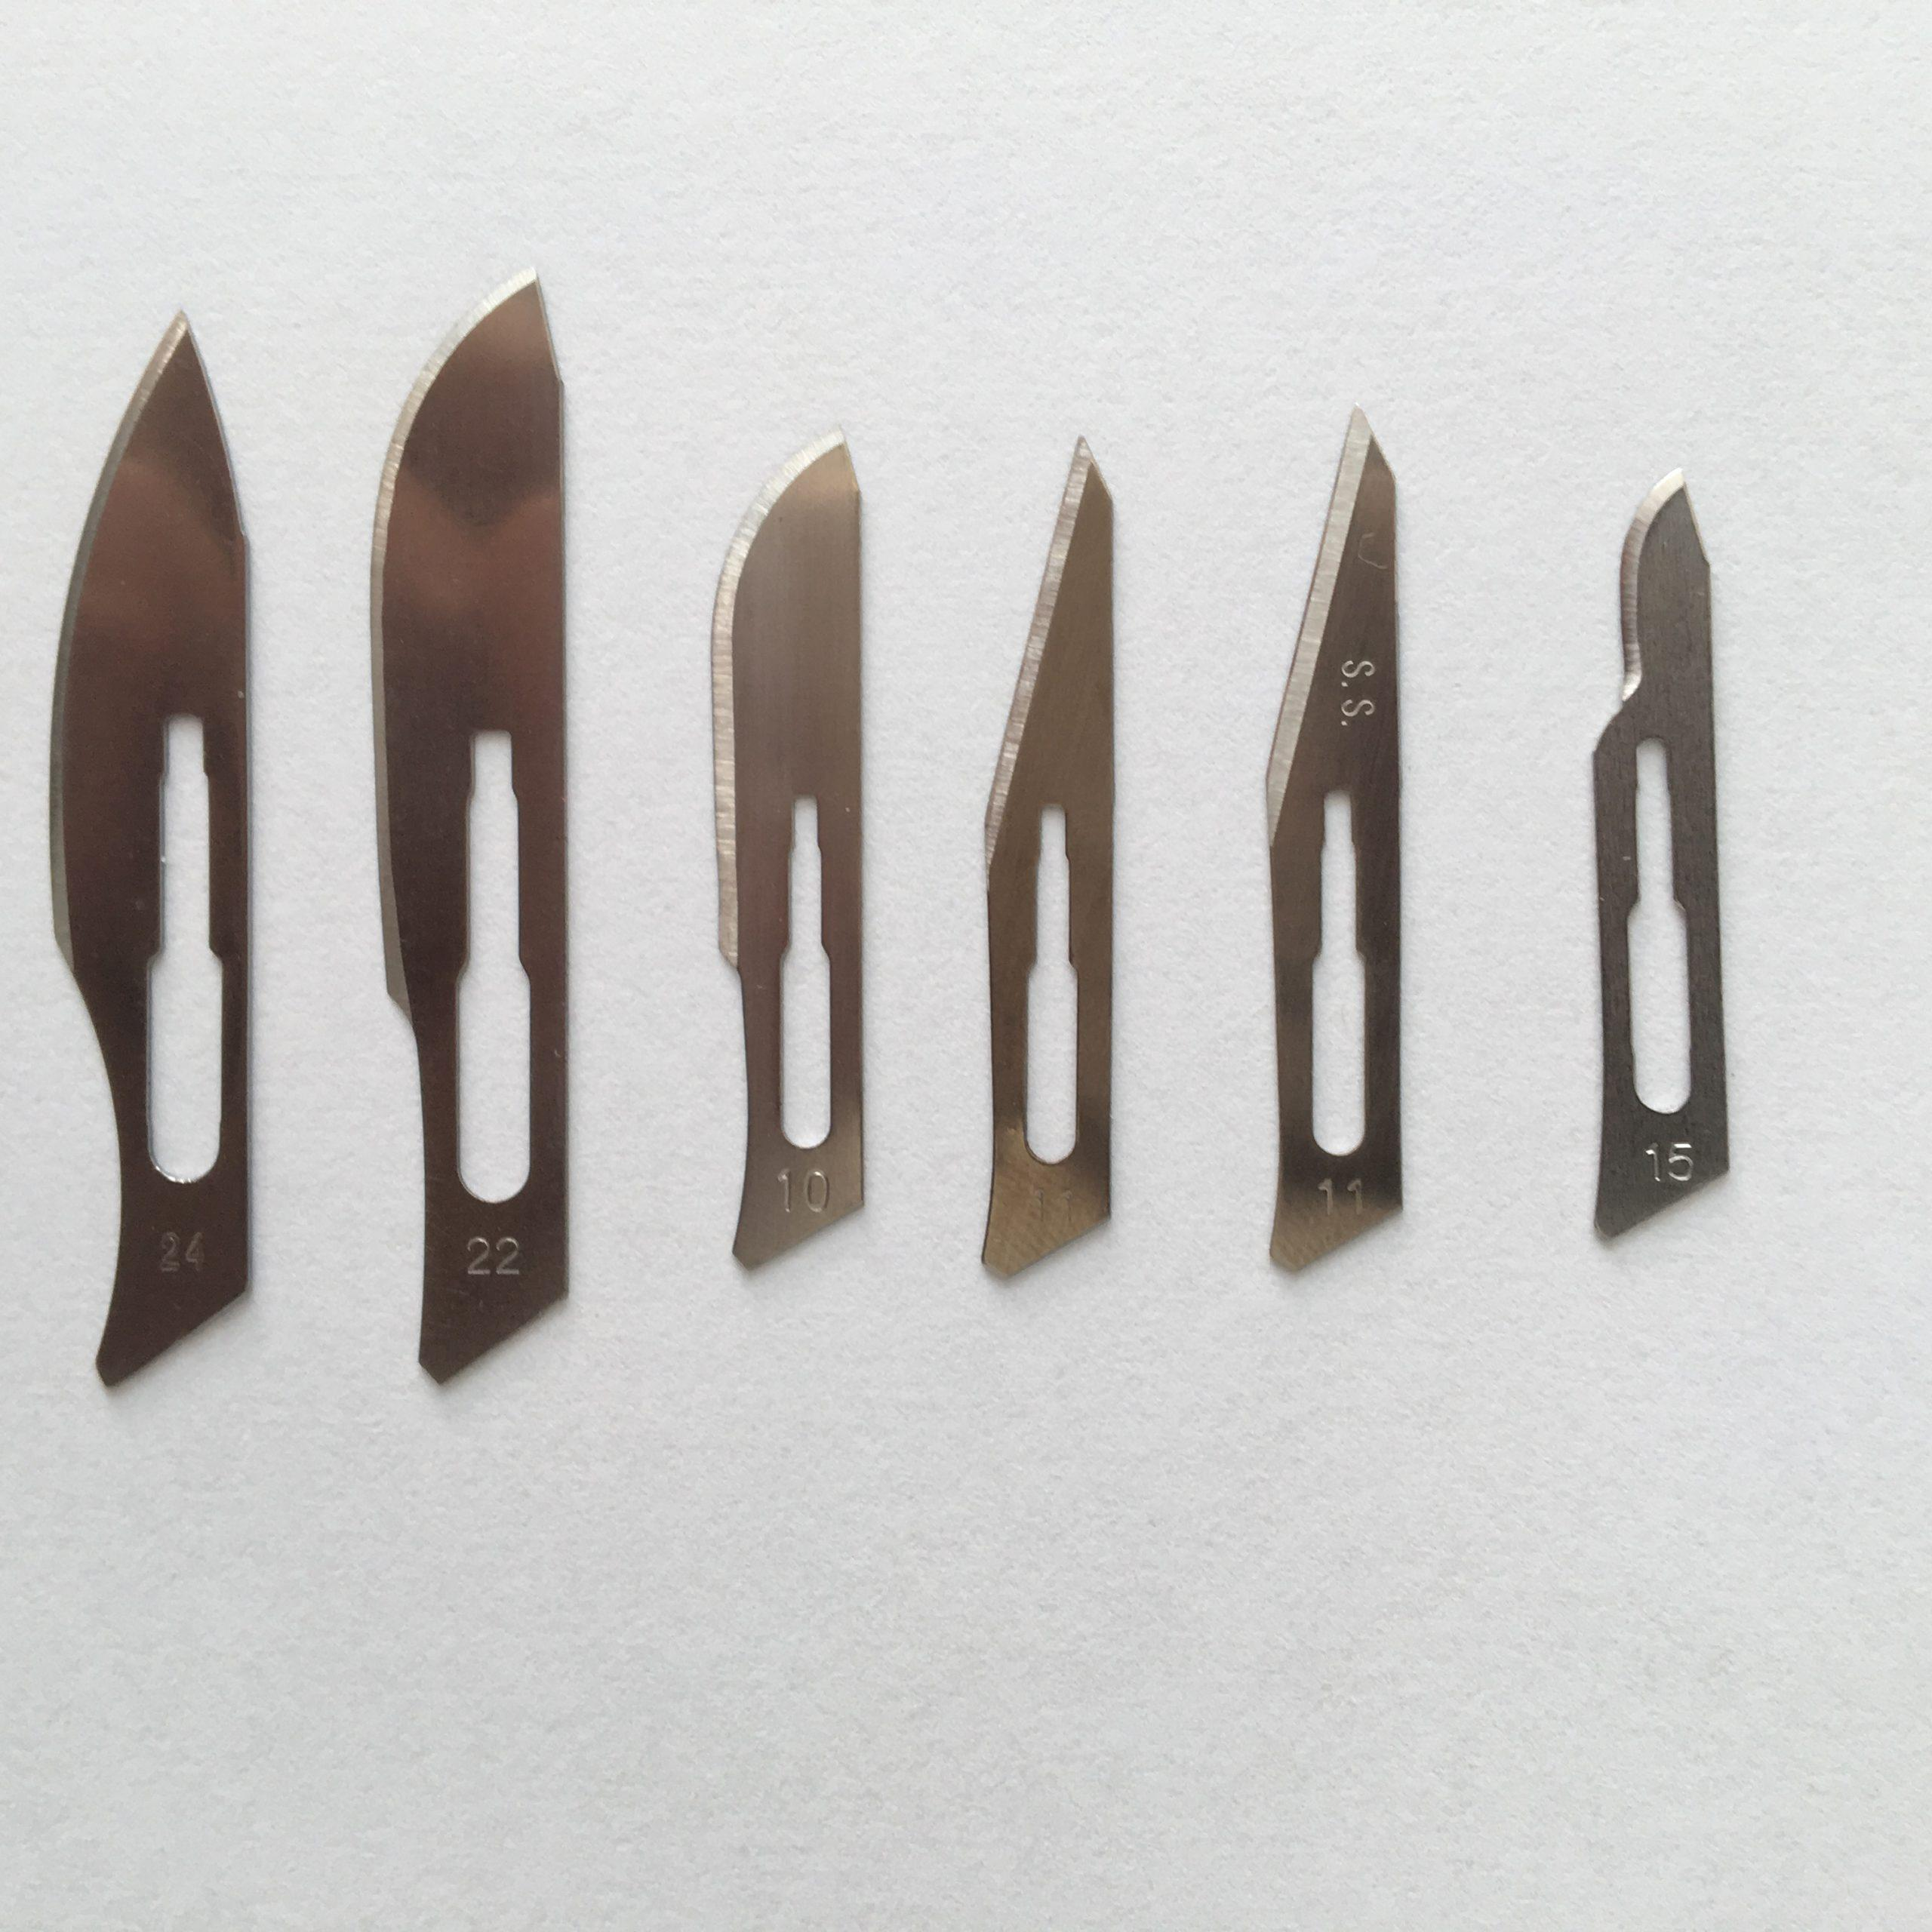Surgical blade: (32, 299, 315, 1391), (345, 272, 598, 1407), (1228, 387, 1438, 1300), (694, 412, 899, 1276), (1557, 441, 1752, 1256), (964, 419, 1139, 1306)
